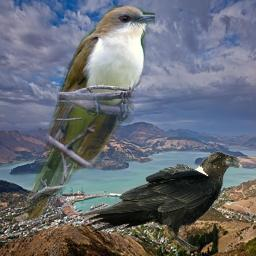Crow: (78, 150, 244, 253)
Cuckoo: (17, 2, 155, 225)
